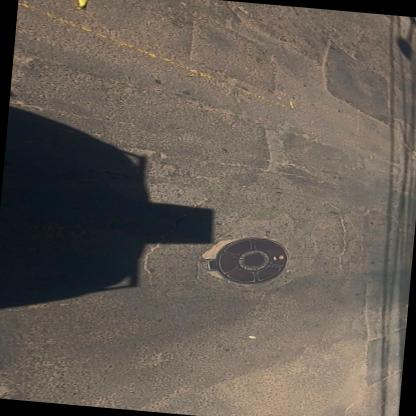manholes: (186, 229, 300, 292)
